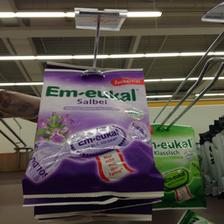Suessigkeit: (24, 65, 160, 195), (140, 116, 204, 204)
